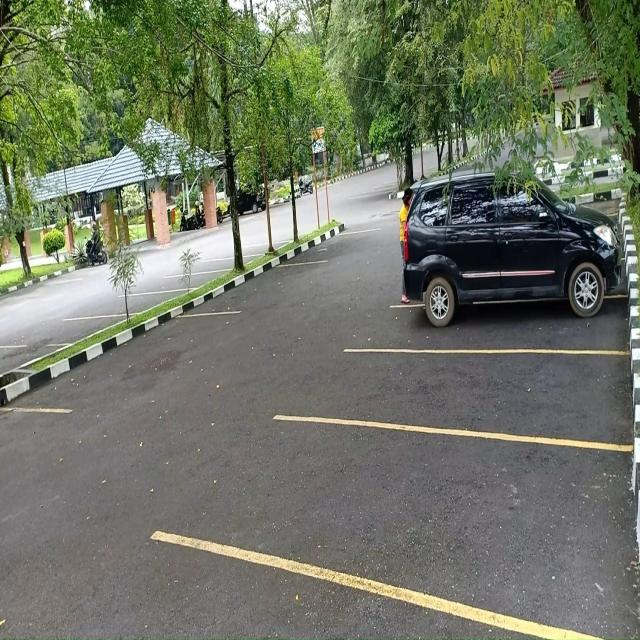empty: (316, 435, 637, 626), (346, 348, 631, 445), (237, 264, 293, 315), (314, 230, 377, 263), (42, 316, 104, 346), (124, 291, 168, 315), (173, 271, 214, 292), (207, 256, 236, 274)
occupied: (388, 232, 629, 356)
